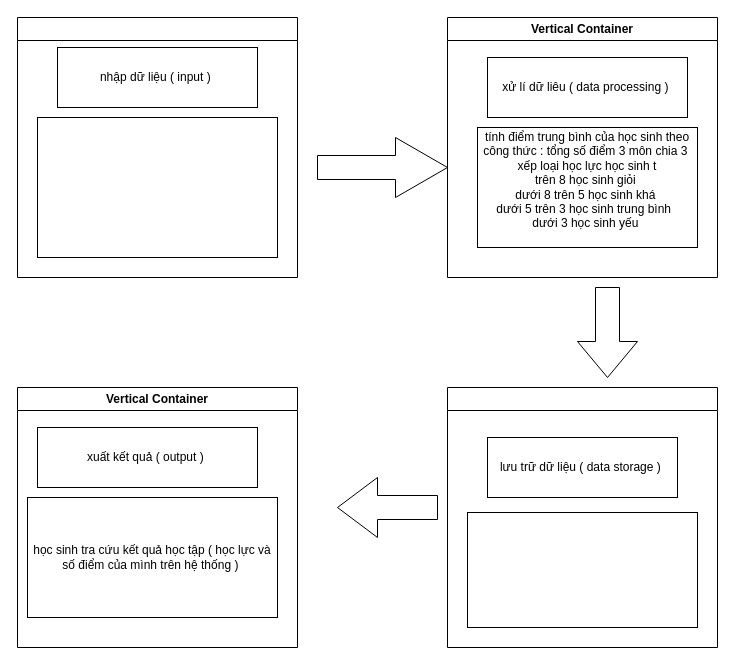
Some shapes in this 735 by 665 pixel diagram are drawn without their labels. The centre of each missing label's shape, as x and y in pixels:
"lưu trữ số điểm và học lực của học sinh trên hệ thống học tập của nhà trường" belongs at [582,570].
"nhập học tên học sinh ngày tháng năm sinh lớp số điểm của học sinh đạt được" belongs at [157,187].
